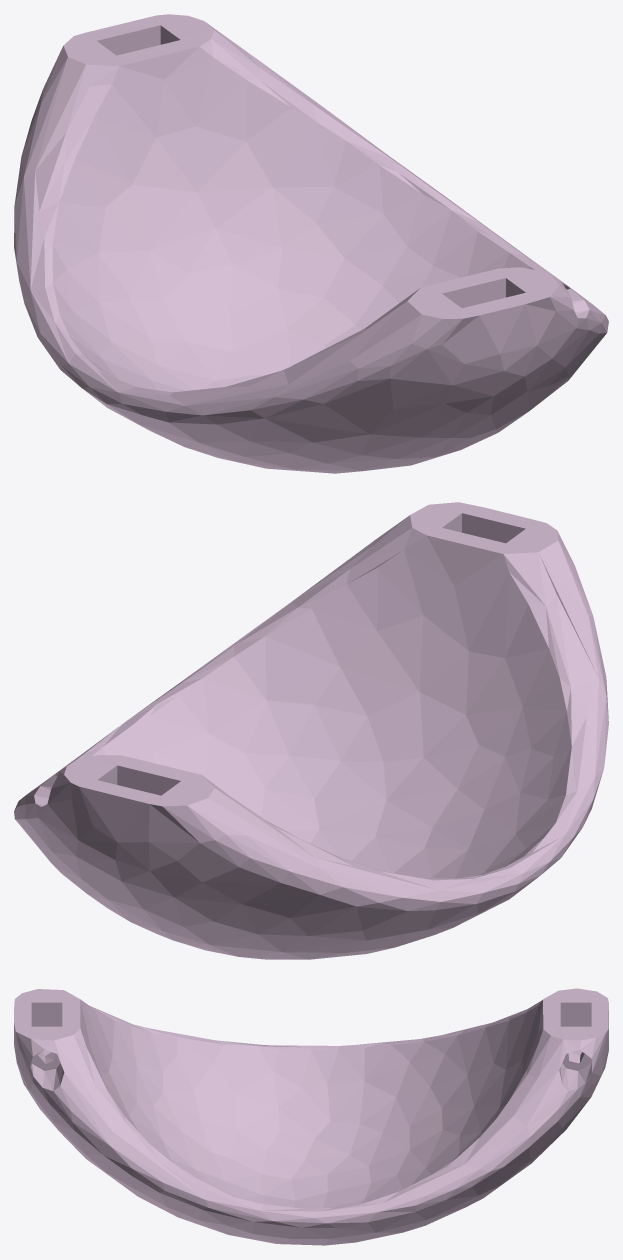
Rendered from eyelid_bottom.dae.
3 views of the same model, one above another, from view 1: azimuth 30°, elevation 25°; view 2: azimuth 150°, elevation 25°; view 3: azimuth 270°, elevation 25° (orthographic). The views are drawn at different scales.
Parts seen in each view (by area): view 1: S2HED_04_001_eyelid; view 2: S2HED_04_001_eyelid; view 3: S2HED_04_001_eyelid.
Part boxes in pixels (x1=…): S2HED_04_001_eyelid: x1=14, y1=14, x2=608, y2=473; S2HED_04_001_eyelid: x1=14, y1=502, x2=608, y2=959; S2HED_04_001_eyelid: x1=14, y1=988, x2=608, y2=1245.
Bounding box in the file's own units: 0.0431 × 0.063 × 0.0238.
